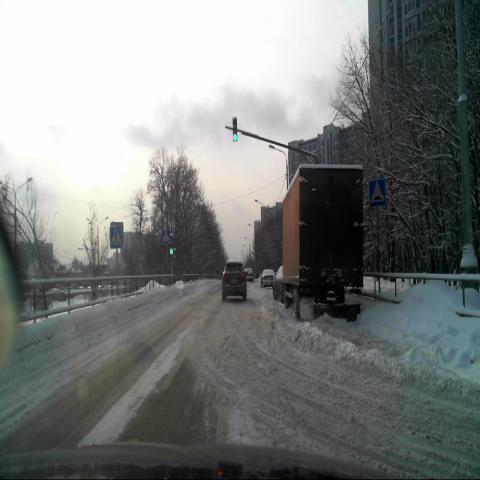5_19_1: (110, 224, 122, 248), (162, 229, 170, 244)
5_20: (370, 180, 386, 208)
